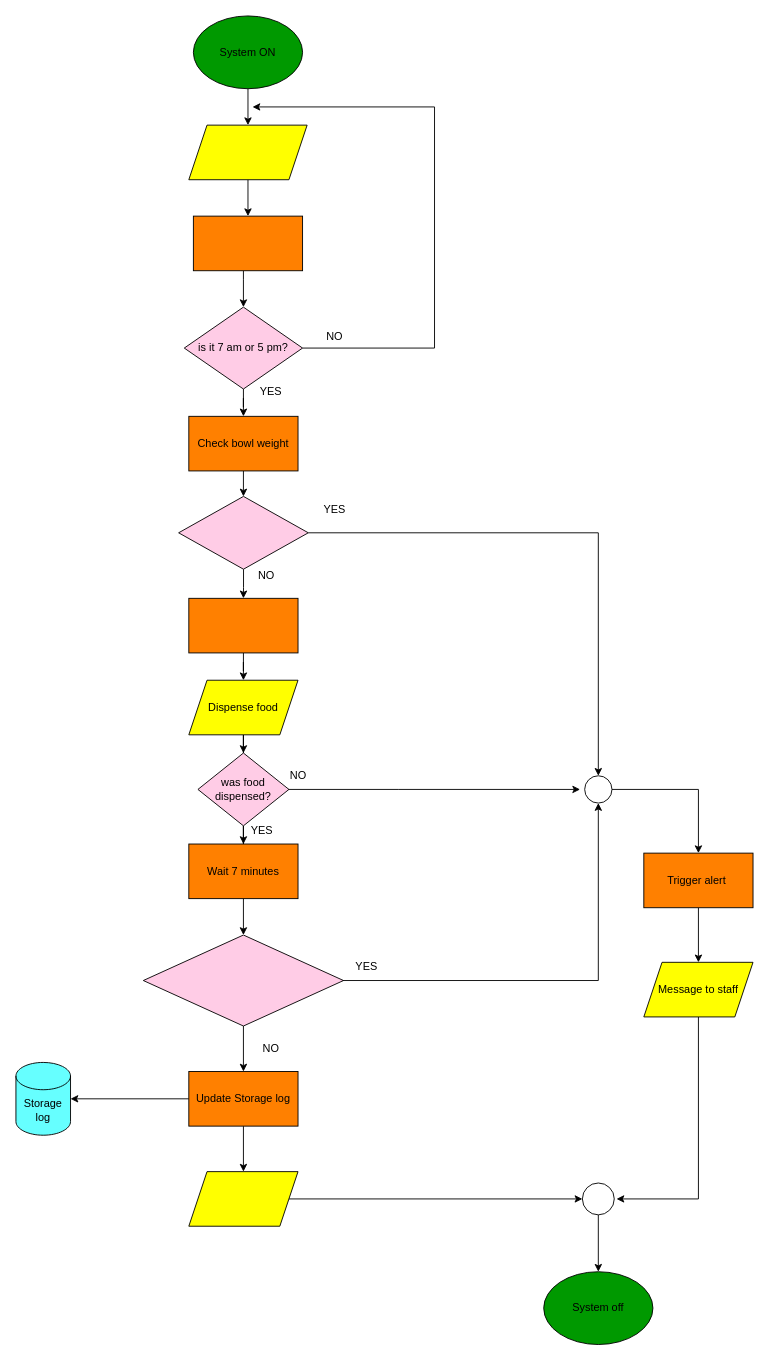
The diagram is 769 pixels wide and 1360 high, and some of its shapes have lost their labels. Each missing label, with the centre of its shape:
Display status: the point at 243,1198
Feeding time: the point at 247,152
is bowl weight and food level unchanged?: the point at 243,980
is there food or not?: the point at 243,532
Read current time: the point at 247,243
Rotate servo motor: the point at 243,625
